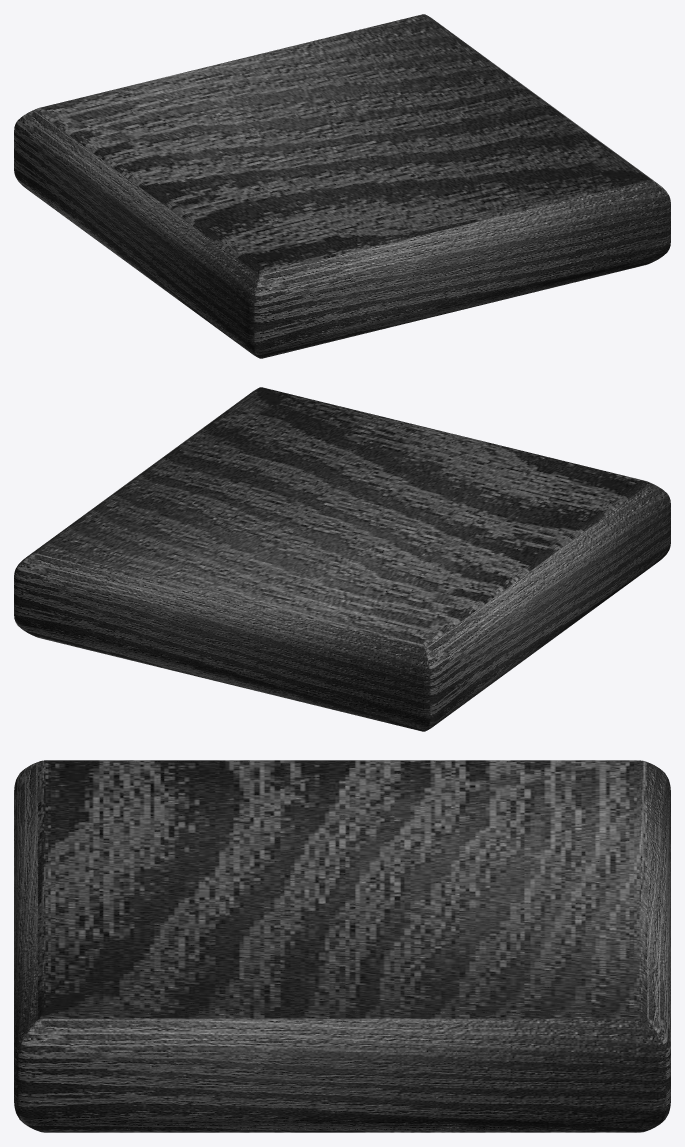
The model's file is tile.FBX.
3 renders of one model, top to bottom at view 1: azimuth 30°, elevation 25°; view 2: azimuth 150°, elevation 25°; view 3: azimuth 270°, elevation 25°, orthographic. The views are drawn at different scales.
Parts seen in each view (by area): view 1: Box001; view 2: Box001; view 3: Box001.
Part boxes in pixels (bbox=[...]): Box001: bbox=[14, 14, 670, 358]; Box001: bbox=[14, 387, 670, 731]; Box001: bbox=[14, 760, 670, 1132].
Bounding box in the file's own units: 5 × 1 × 5.
